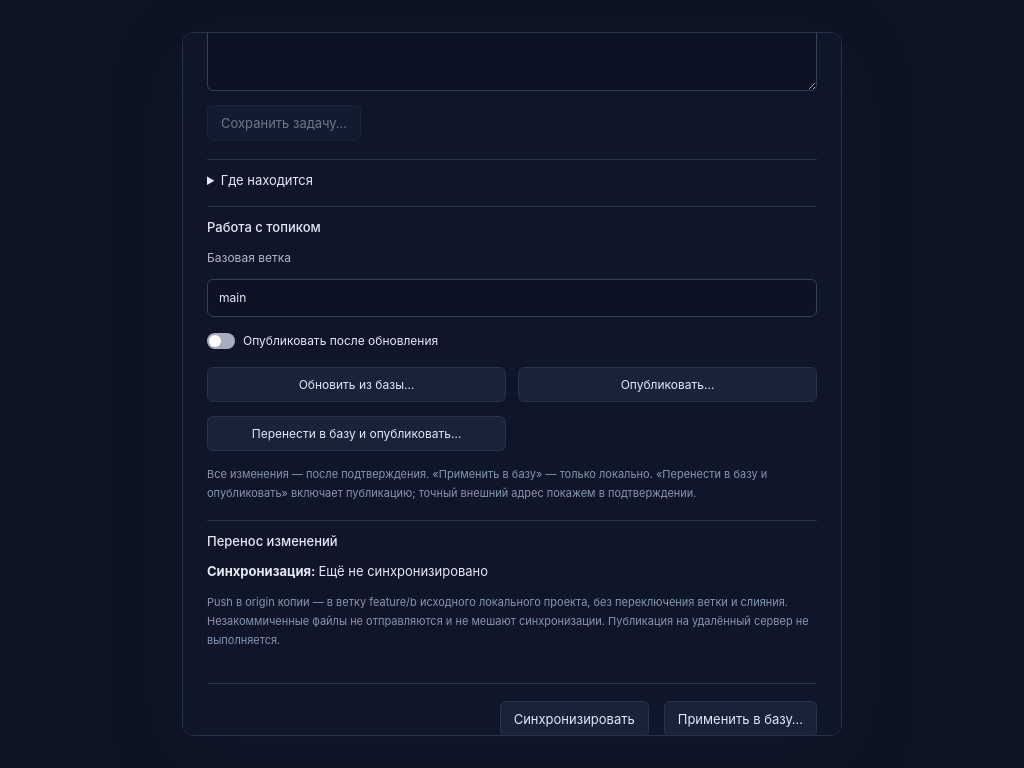
Test: shows actionable upstream errors without executing publication
(page scrolled)
Click the button "Опубликовать…" at x=668, y=384, box x1=518 y1=367 x2=817 y2=402
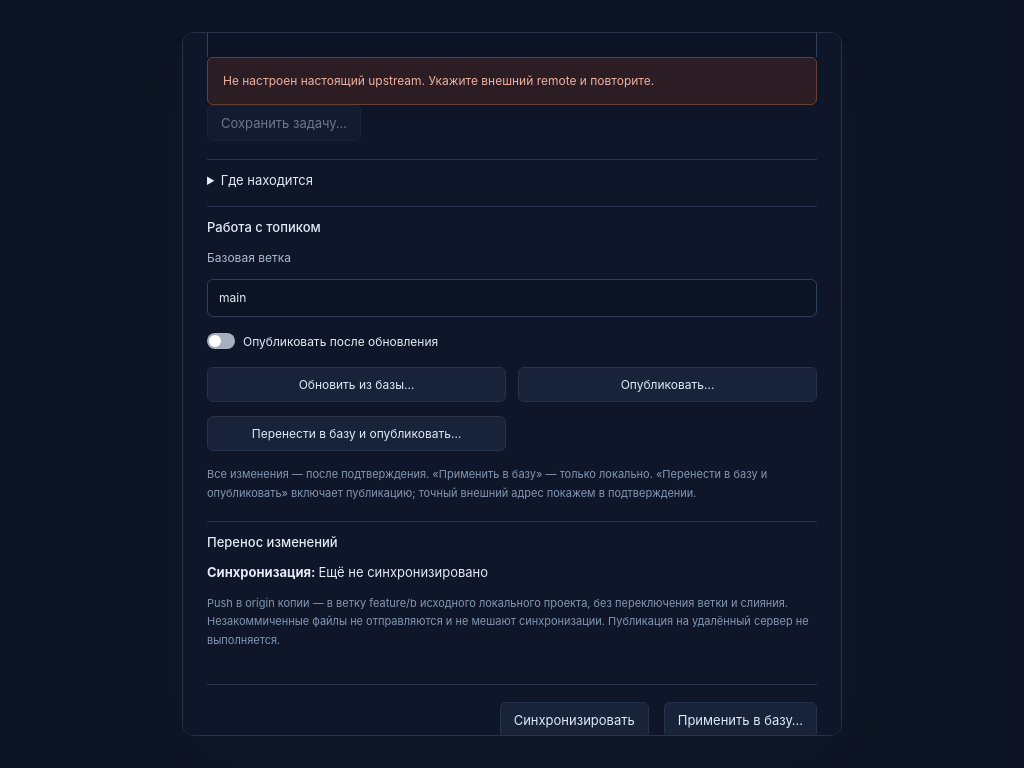
Result: the text "Не настроен настоящий upstream. Укажите внешний remote и повторите." is shown at x1=207 y1=57 x2=817 y2=105
